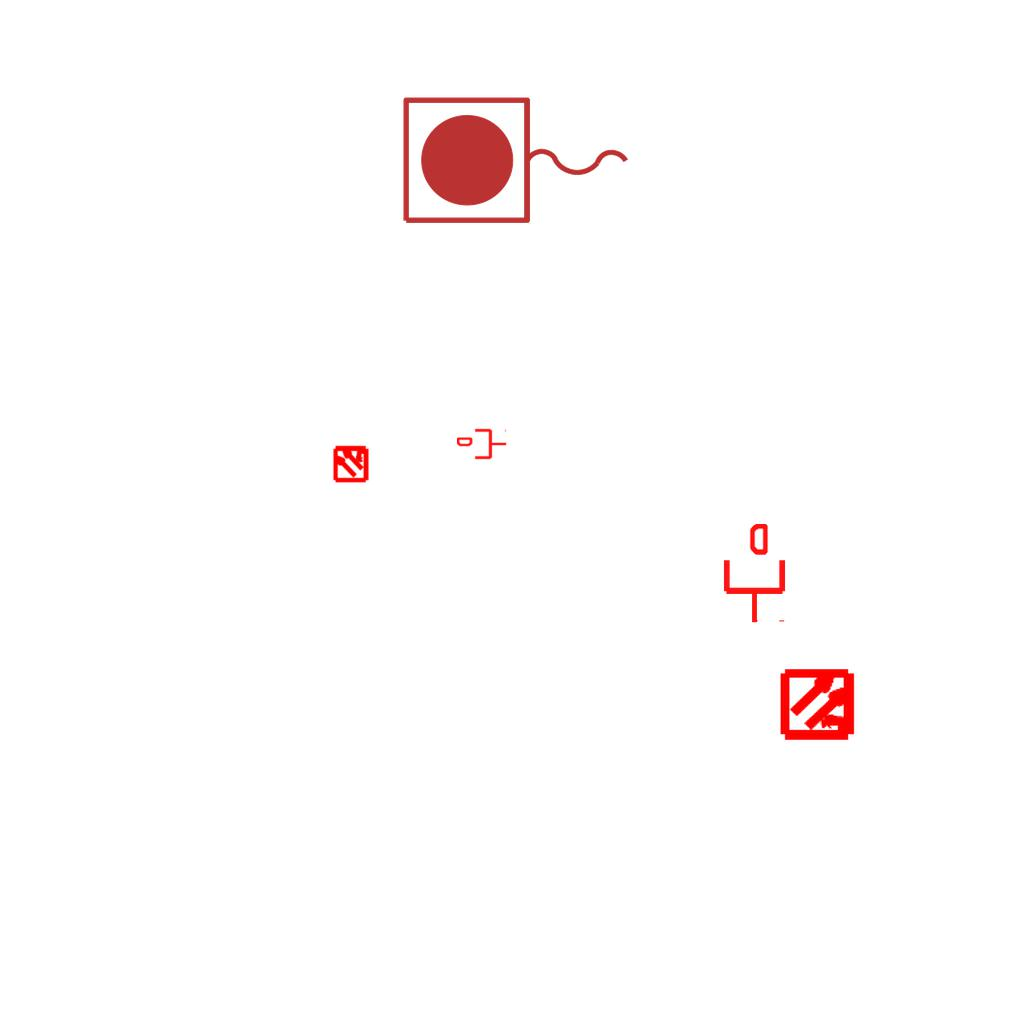Datenanschluss_einfach: (720, 524, 789, 624), (457, 427, 507, 461)
OT_Multisensormelder_(Kombination_RMO_WMD): (763, 648, 876, 761), (323, 435, 379, 491)
Zugtaster: (395, 90, 639, 234)
